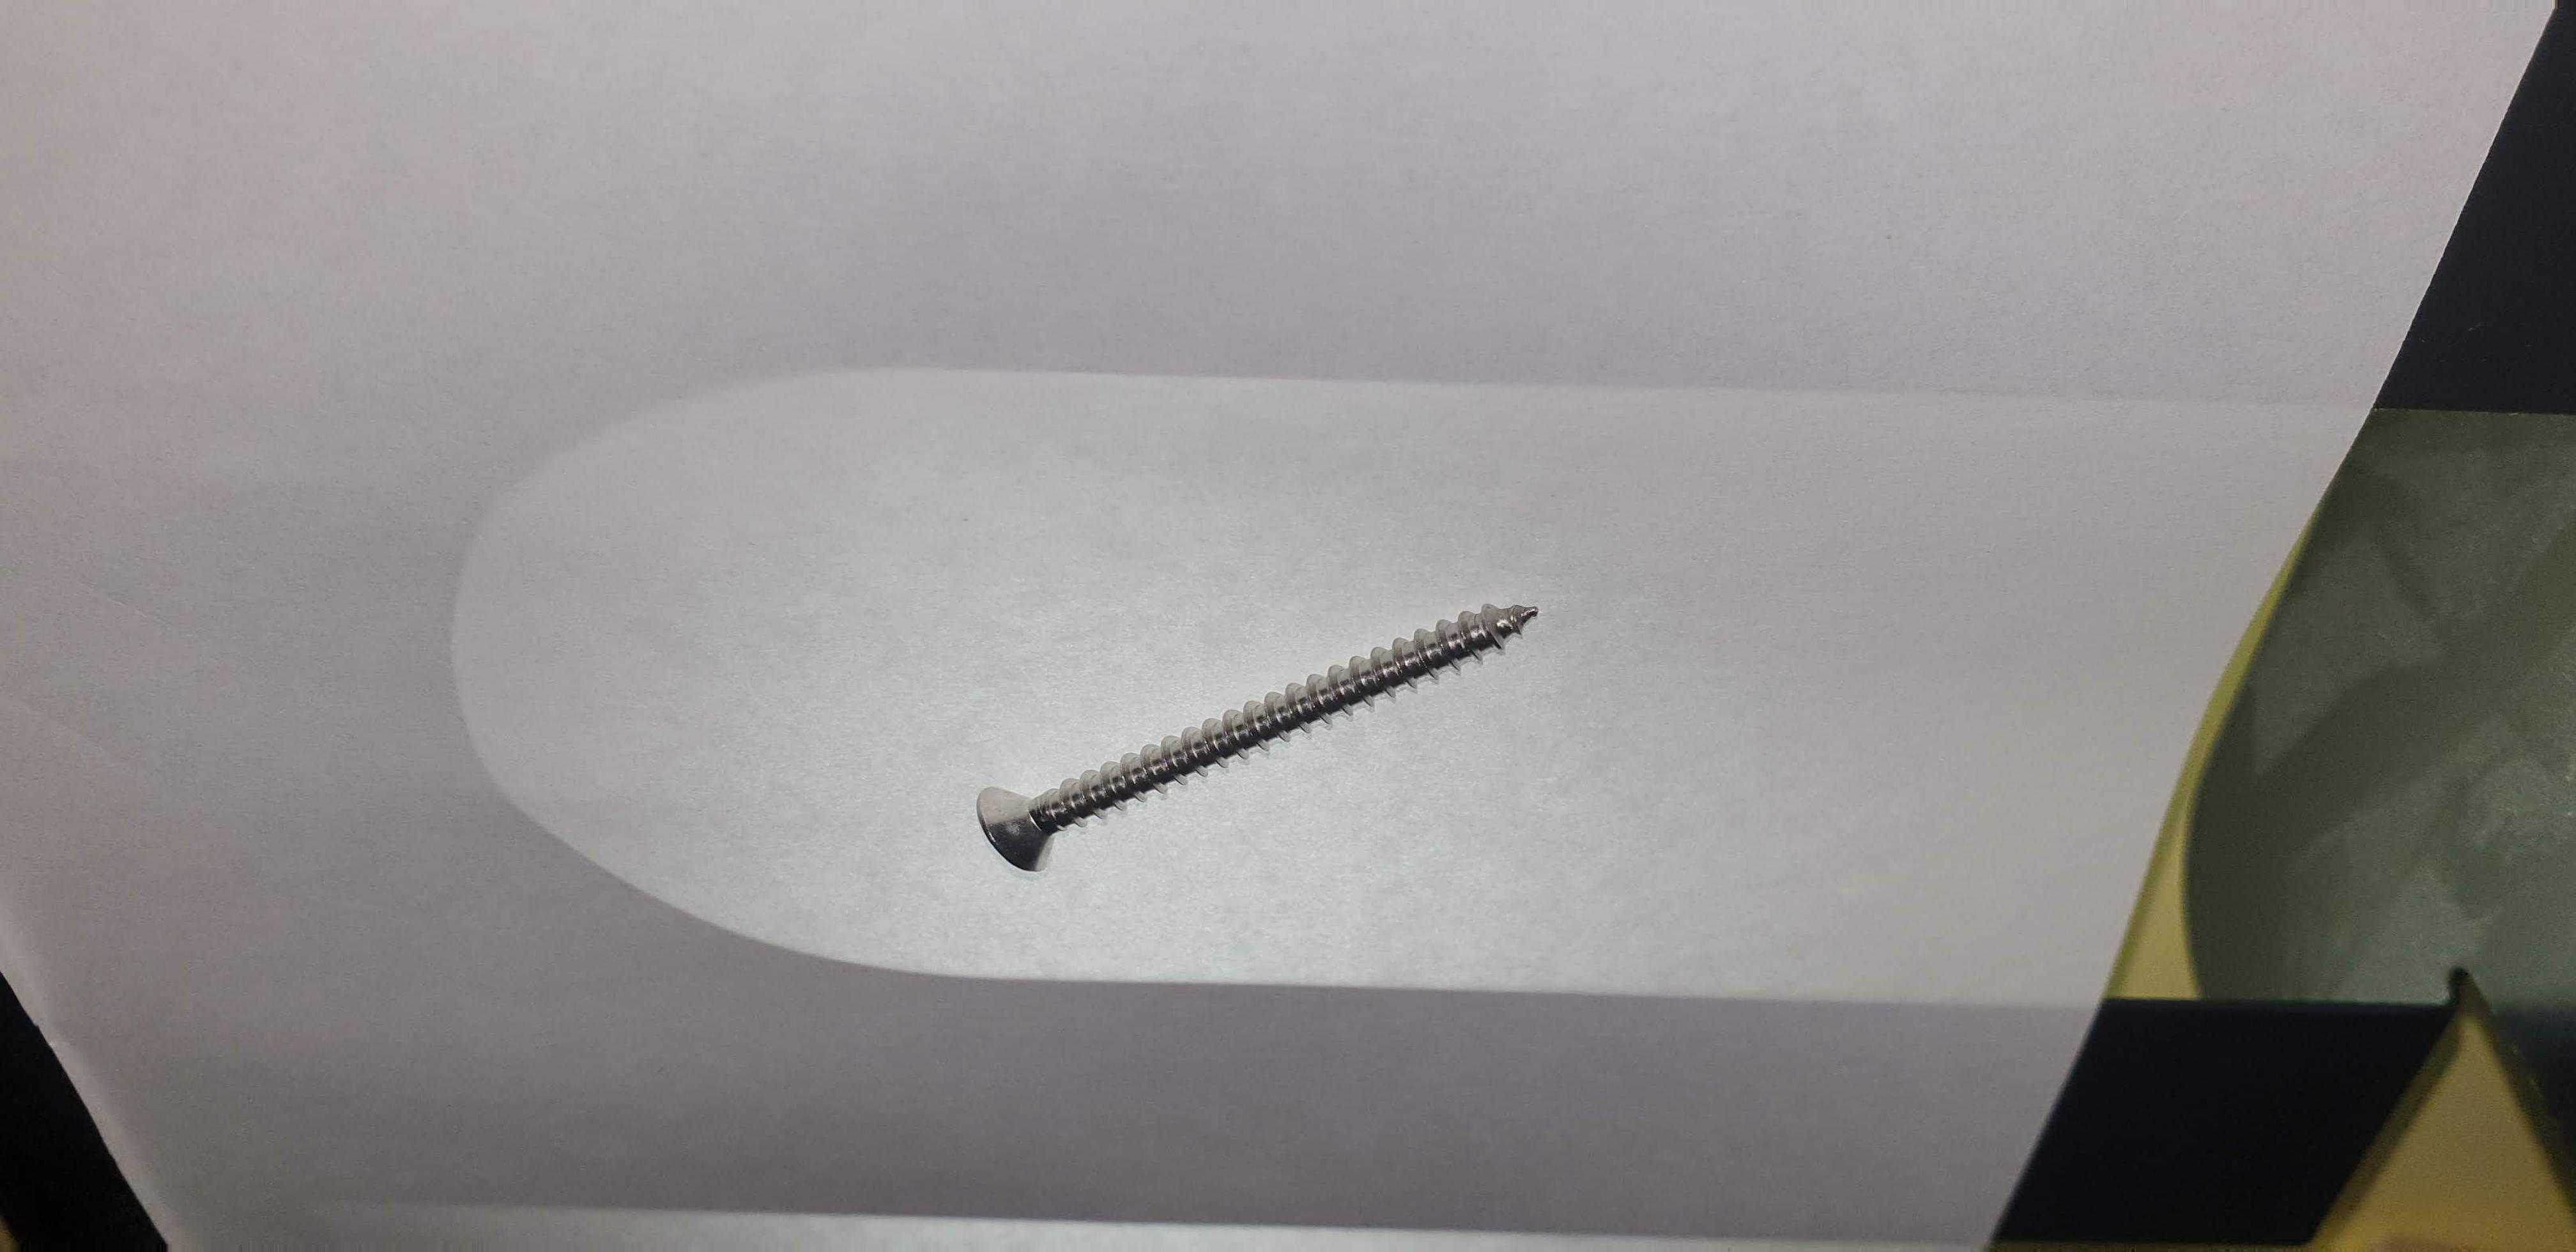fastener: (882, 522, 1626, 905)
